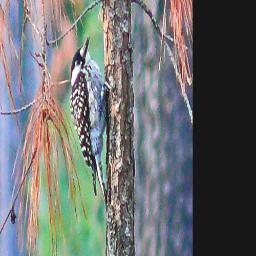Woodpecker: (63, 28, 122, 217)
